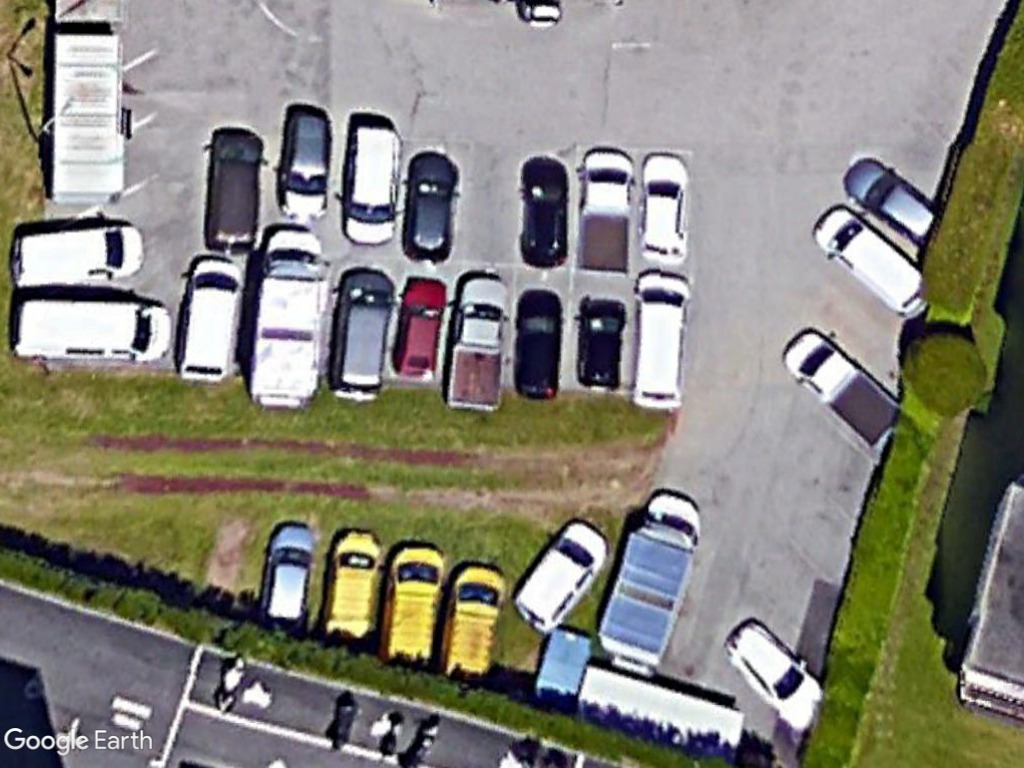car: (723, 617, 823, 728), (201, 123, 269, 256), (339, 120, 403, 244), (508, 282, 568, 404), (400, 146, 463, 262), (258, 515, 318, 634), (638, 149, 694, 272), (278, 107, 335, 224), (516, 154, 572, 271), (394, 277, 448, 381)
others: (781, 322, 903, 449), (440, 269, 517, 415), (575, 144, 637, 279)
truck: (242, 226, 331, 411)
van: (808, 202, 933, 320), (7, 295, 178, 367), (7, 212, 150, 294), (516, 516, 611, 635), (330, 263, 400, 408), (625, 267, 694, 410), (374, 540, 450, 666), (175, 254, 243, 387), (317, 525, 387, 643), (442, 562, 507, 679)
